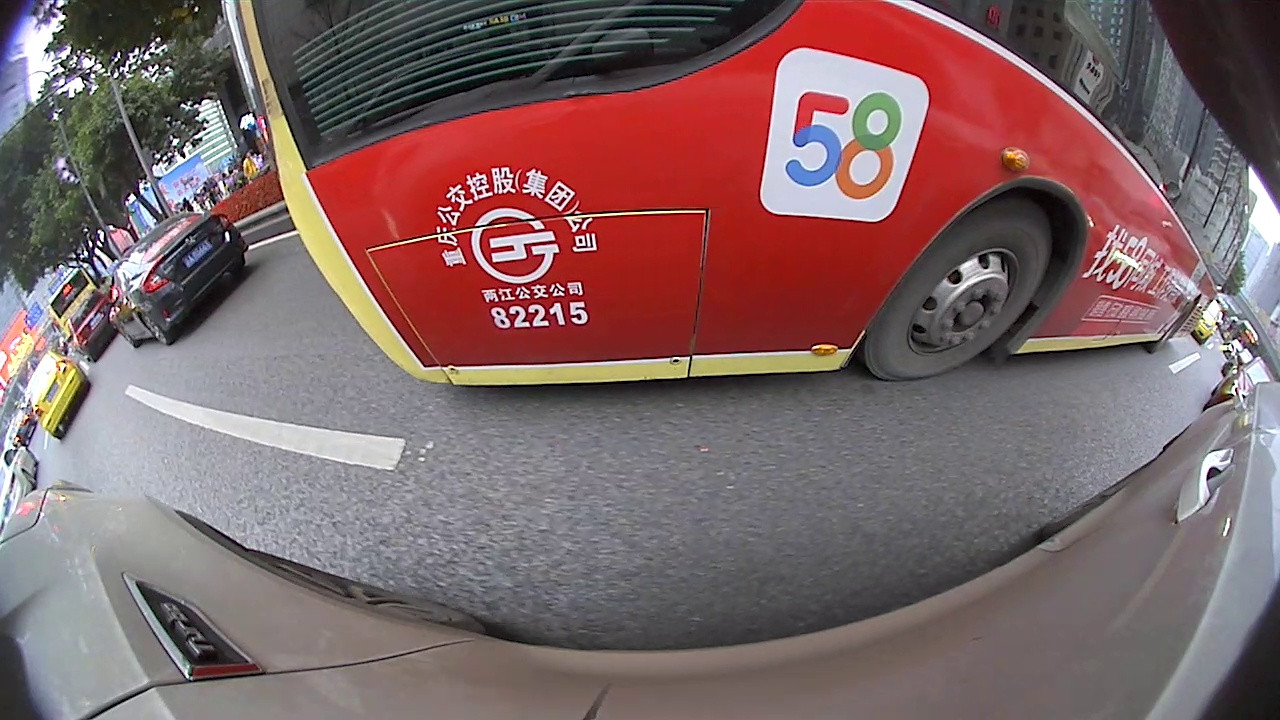bus: (222, 1, 1256, 390)
car: (106, 208, 251, 349), (20, 346, 91, 444), (63, 290, 124, 362)
front: (861, 196, 1057, 383)
rear: (1145, 299, 1201, 355), (134, 312, 179, 348)
